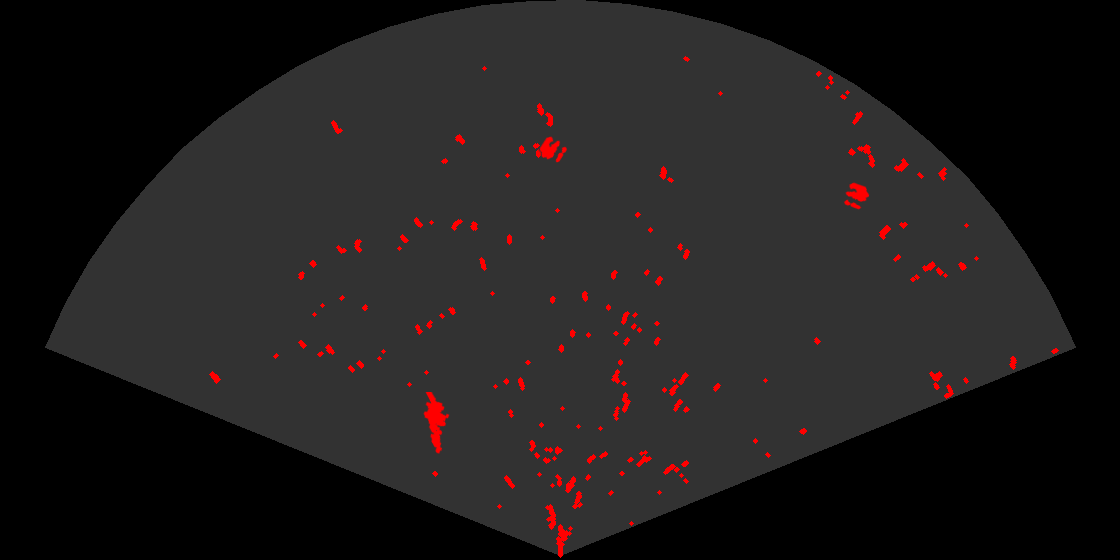ball: (538, 135, 569, 164), (842, 181, 871, 211)
frogman: (422, 392, 451, 455)
